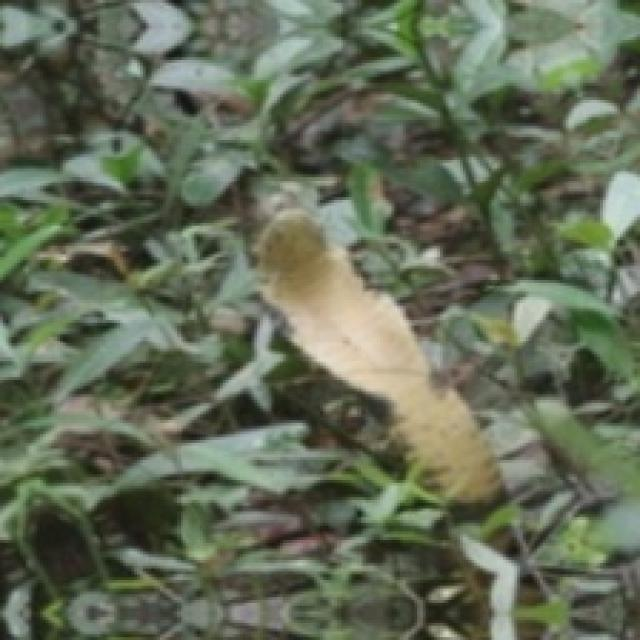king cobra: (257, 209, 500, 503)
